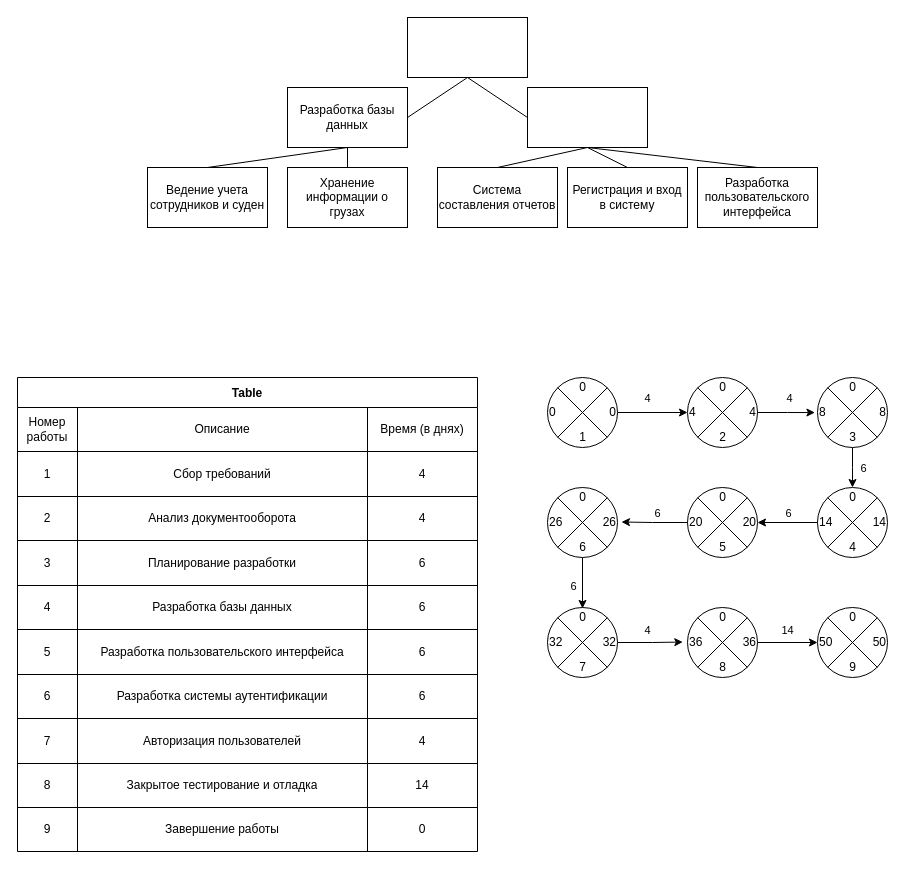
This 905x869 diagram has some shape labels left out. Here are the shapes that lost their labels. From the top down, the centre of each, then its label:
At (x=467, y=47): "Ведение отчетности грузоперевозок".
At (x=587, y=117): "Разработка приложения".
